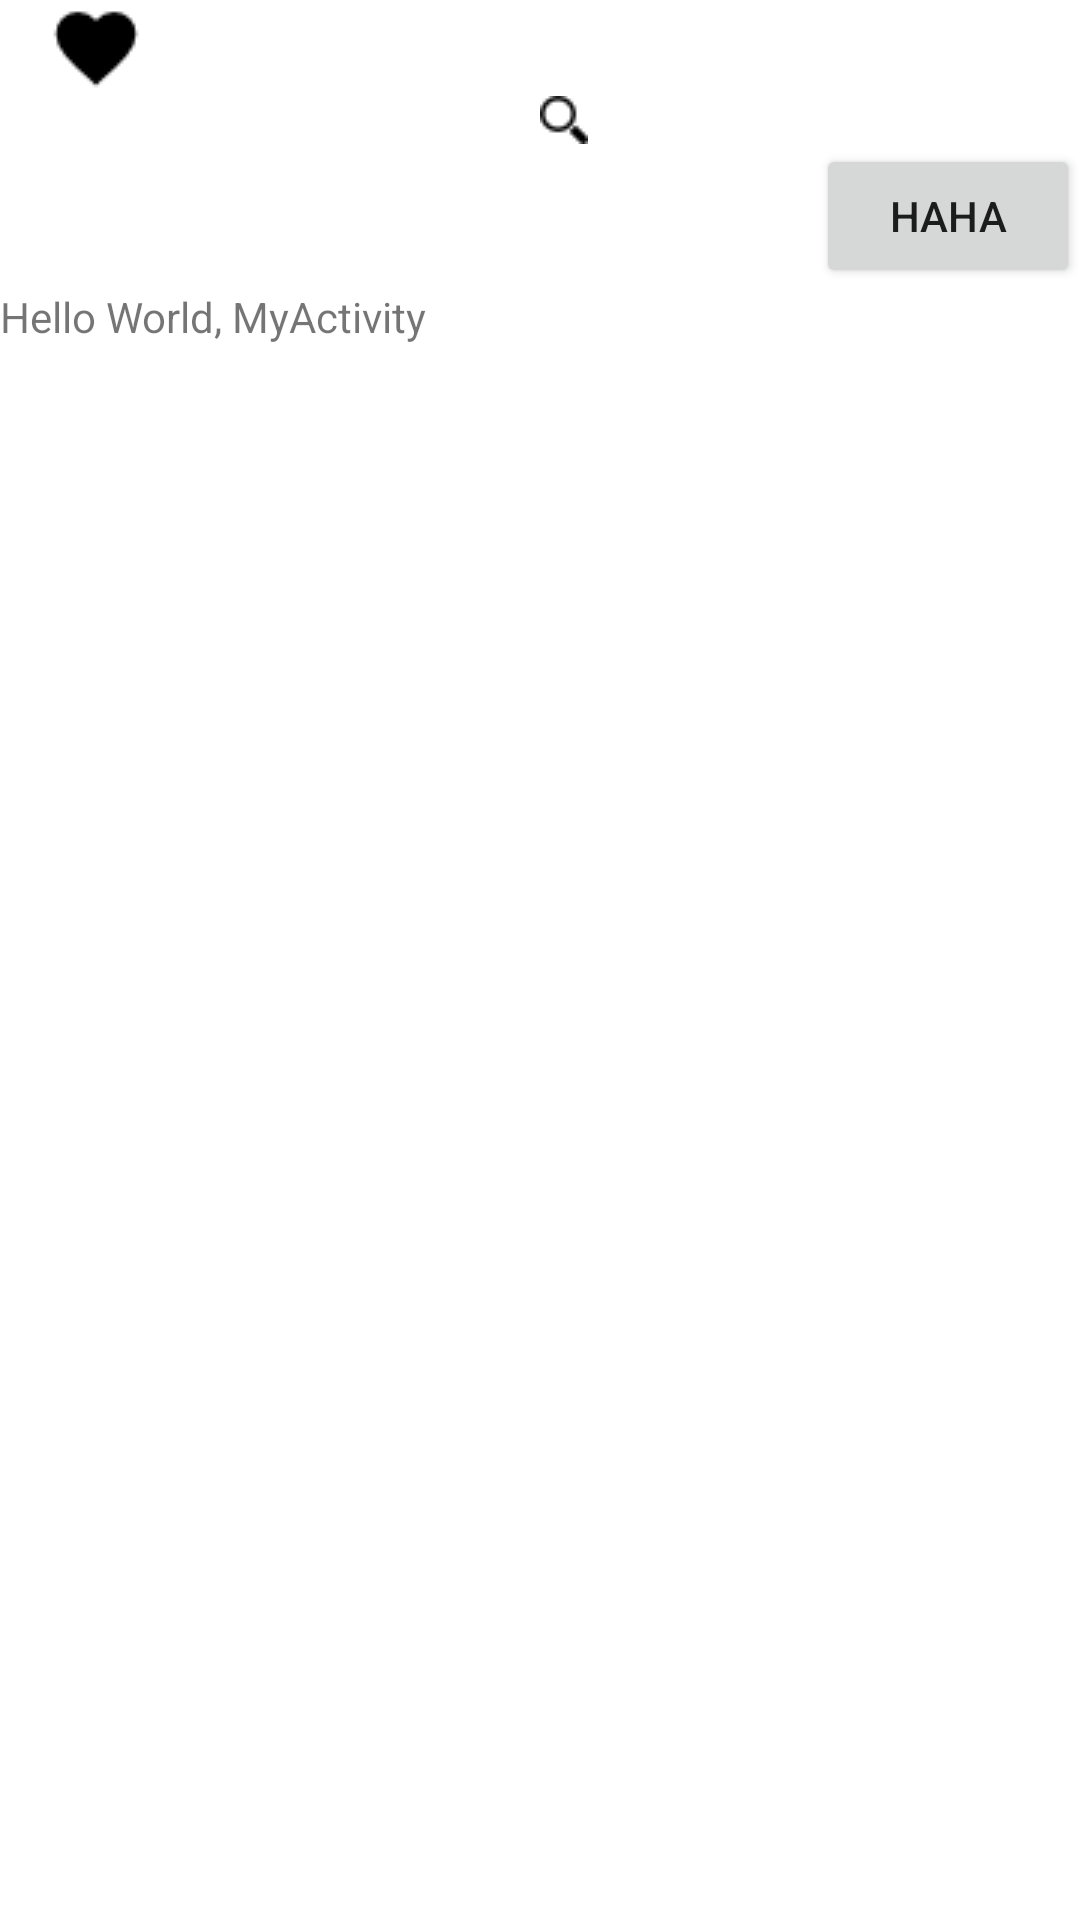

Icons on this 1080w x 1920h Android screen, each with the point to tap as (x,y):
favorite: (96,48)
search: (564,120)
